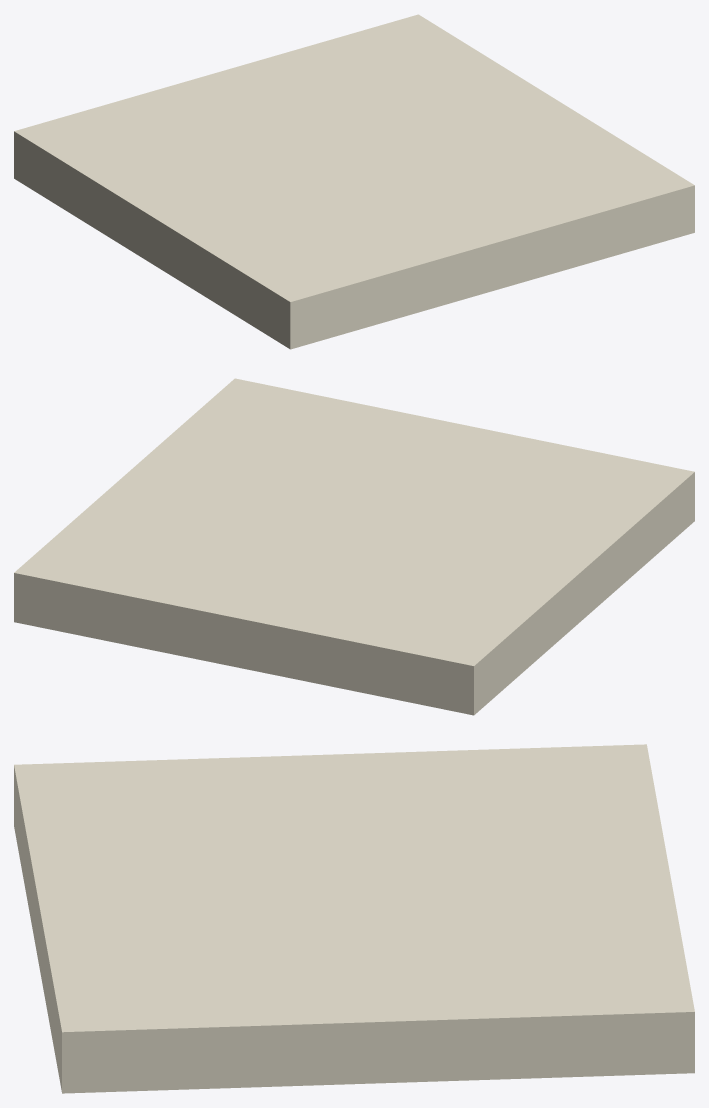
Rendered from camino_2_lev1.glb.
3 renders of one model, top to bottom at view 1: azimuth 30°, elevation 25°; view 2: azimuth 150°, elevation 25°; view 3: azimuth 270°, elevation 25°, orthographic. The views are drawn at different scales.
Parts seen in each view (by area): view 1: camino_2_lev1; view 2: camino_2_lev1; view 3: camino_2_lev1.
Boxes of the visible parts, bbox=[...] form: camino_2_lev1: bbox=[14, 14, 694, 349]; camino_2_lev1: bbox=[14, 378, 694, 715]; camino_2_lev1: bbox=[14, 744, 694, 1093].
Bounding box in the file's own units: 1.61 × 0.16 × 1.61.
